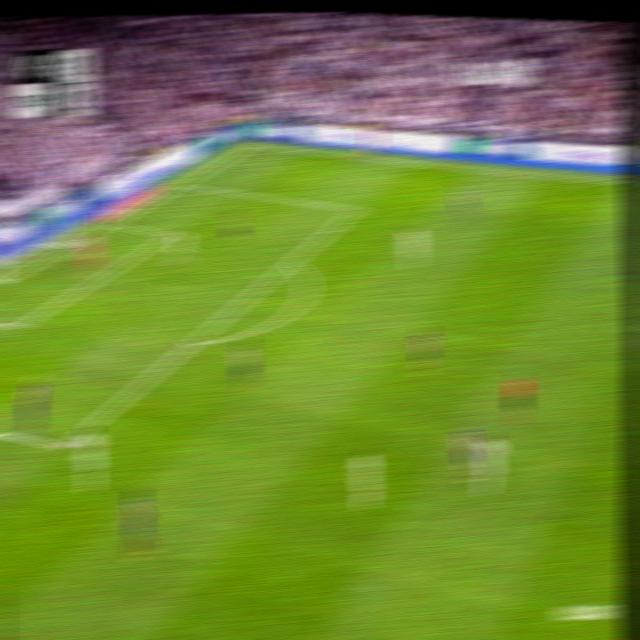bigarea_bottom_inner: (55, 434, 75, 459)
bigarea_top_inner: (346, 200, 365, 218)
bigarea_top_outter: (175, 175, 194, 190)
bottom_arc_area_intersection: (183, 330, 204, 353)
corner: (244, 139, 262, 150)
smallarea_bottom_inner: (10, 316, 30, 337)
smallarea_top_inner: (161, 225, 179, 243)
smallarea_top_outter: (103, 218, 122, 230)
top_arc_area_intersection: (283, 252, 301, 270)
